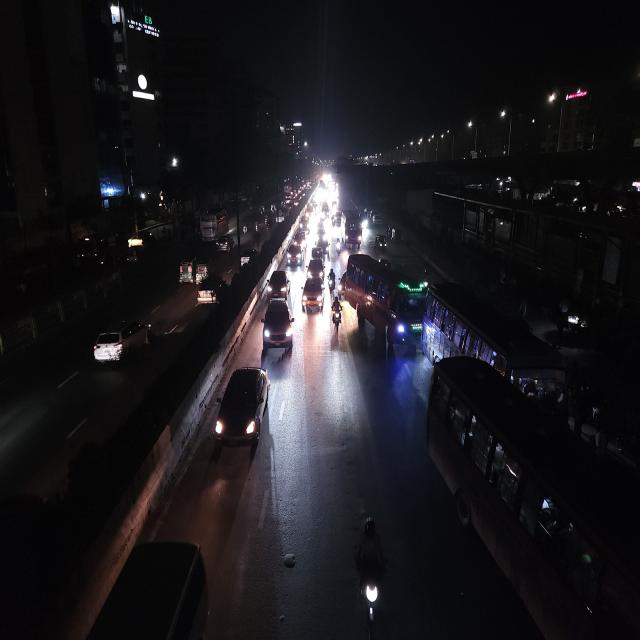bus: (424, 356, 640, 640), (427, 280, 552, 394), (346, 252, 428, 348), (341, 214, 363, 248), (196, 214, 220, 242)
car: (217, 368, 271, 454), (90, 316, 138, 372), (258, 296, 298, 362), (301, 274, 325, 320), (198, 275, 225, 308), (266, 267, 290, 297), (305, 258, 326, 280), (283, 242, 303, 265), (240, 250, 256, 272), (219, 233, 233, 253), (315, 239, 329, 255)
cng: (174, 252, 194, 288), (195, 260, 208, 281), (376, 232, 388, 251)
motorcycle: (349, 515, 389, 625), (332, 293, 342, 333), (327, 265, 337, 293), (335, 237, 343, 259), (242, 222, 248, 237)
